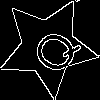Q: (23, 22, 83, 79)
